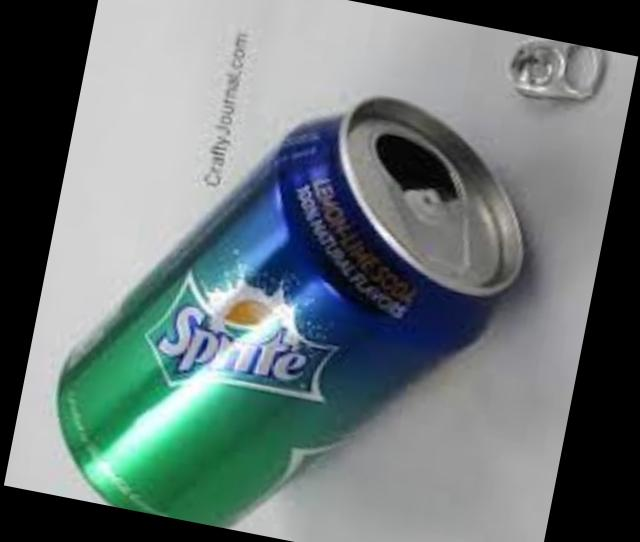metal: (52, 102, 518, 528)
